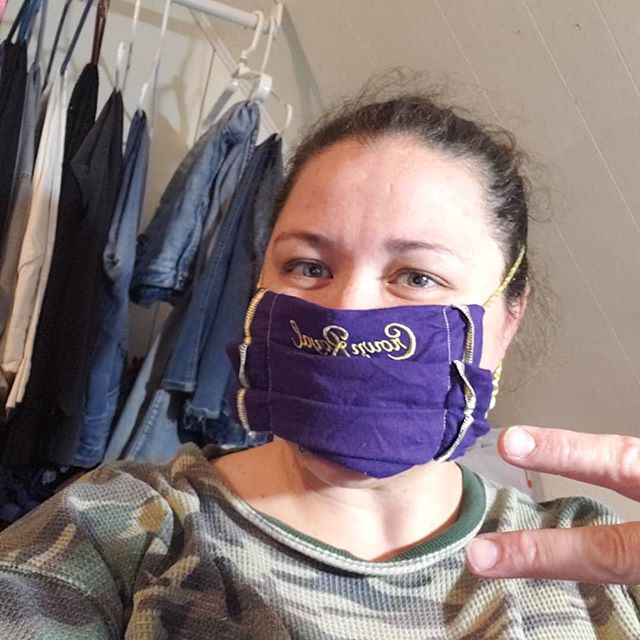homemade: (233, 301, 493, 472)
